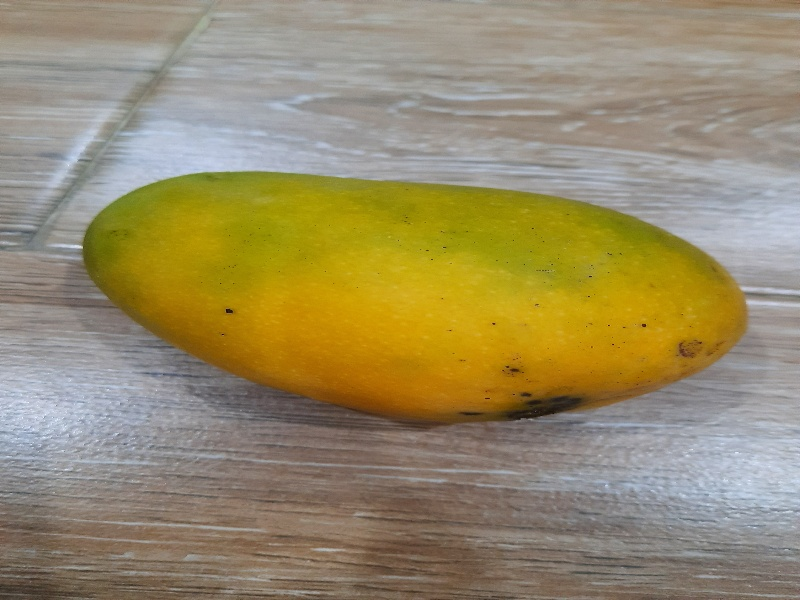fruit: (81, 151, 754, 433)
